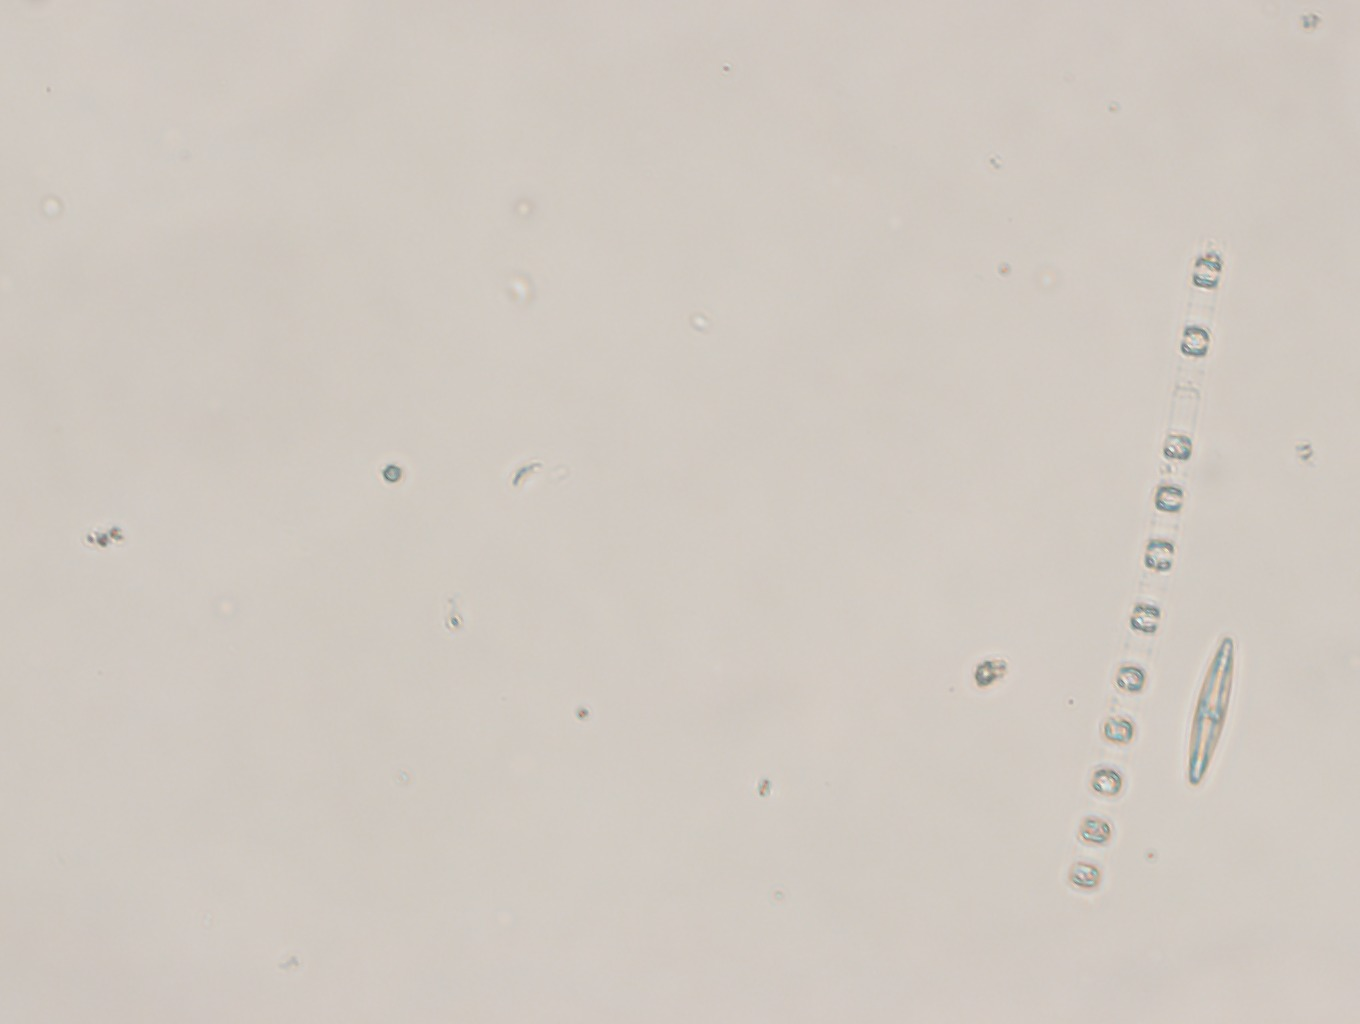navicula: (1183, 626, 1237, 794)
skeletonema: (1064, 239, 1232, 910)
